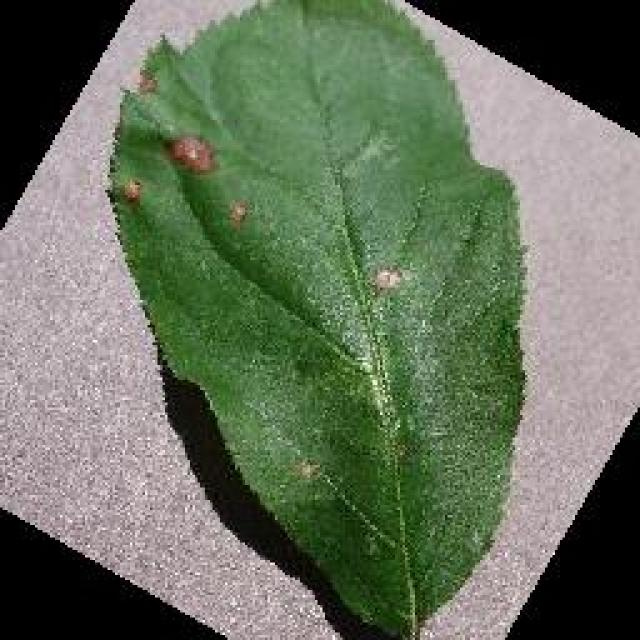Black_rot: (102, 0, 530, 638)
